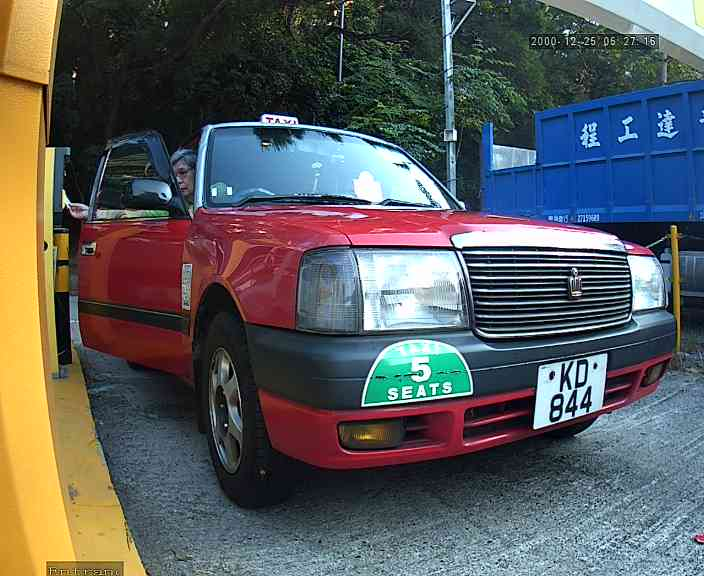taxi: (59, 94, 680, 505)
taxi_mark: (343, 325, 481, 418)
